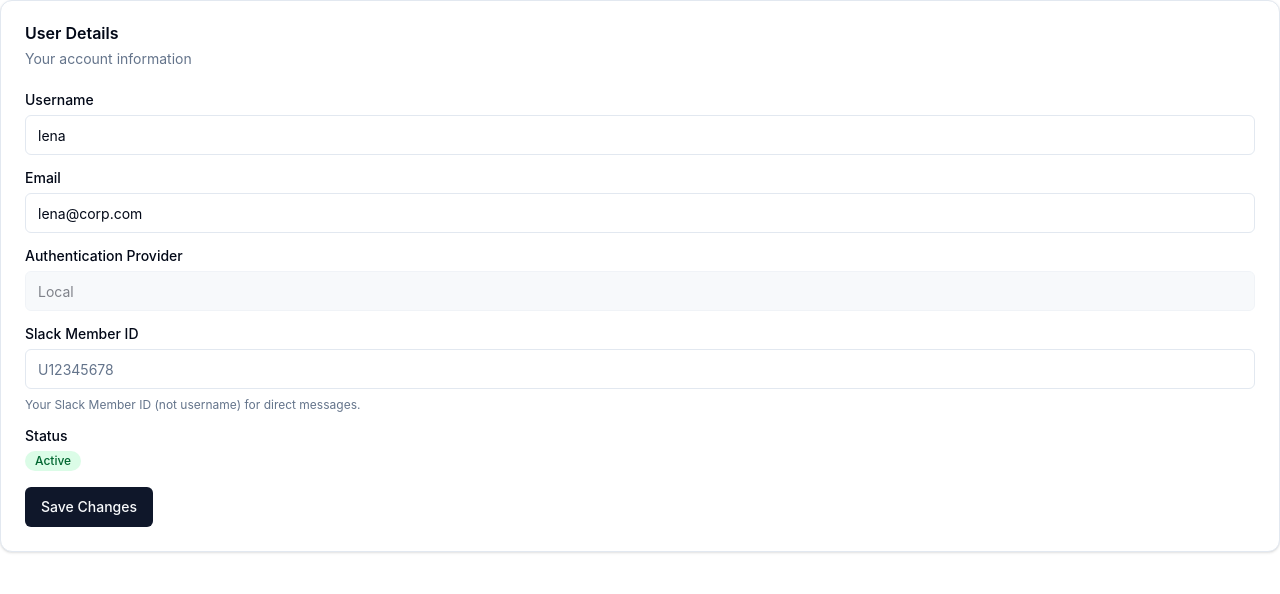
Test: UserDetailsCard › says under the field that the blank address  needs an email address and sends nothing
This screenshot has width=1280, height=594.
Clear the field labelled "Email" at (640, 213), box [25, 193, 1255, 233]
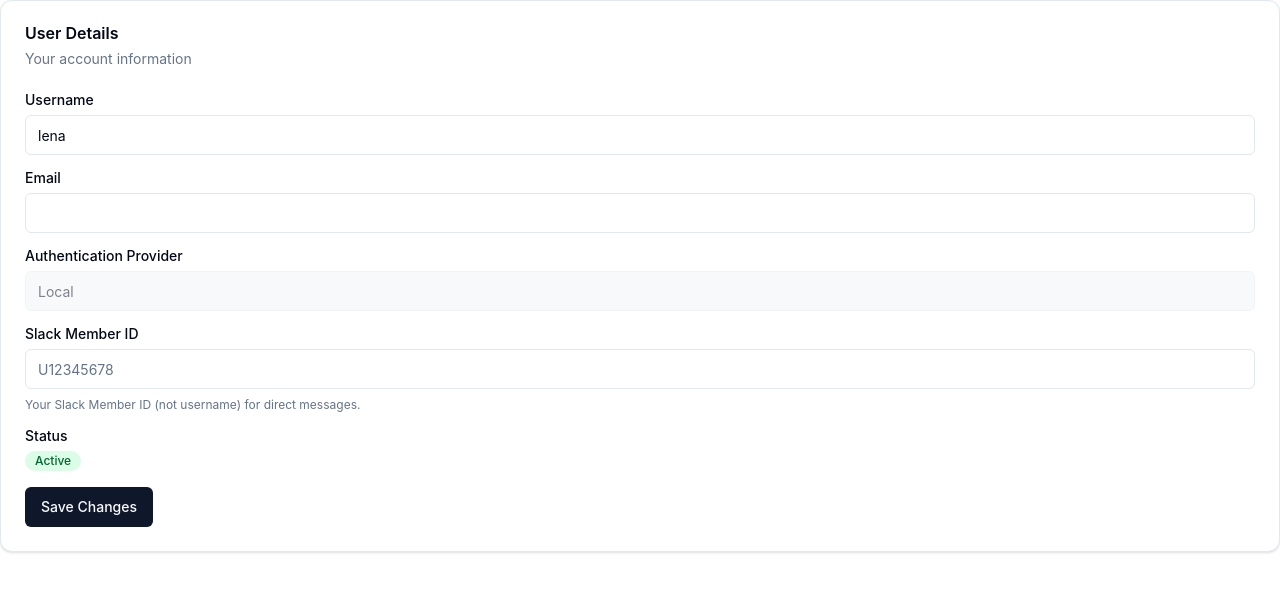
Type "U123" into the field labelled "Slack Member ID" at (640, 369), box [25, 349, 1255, 389]
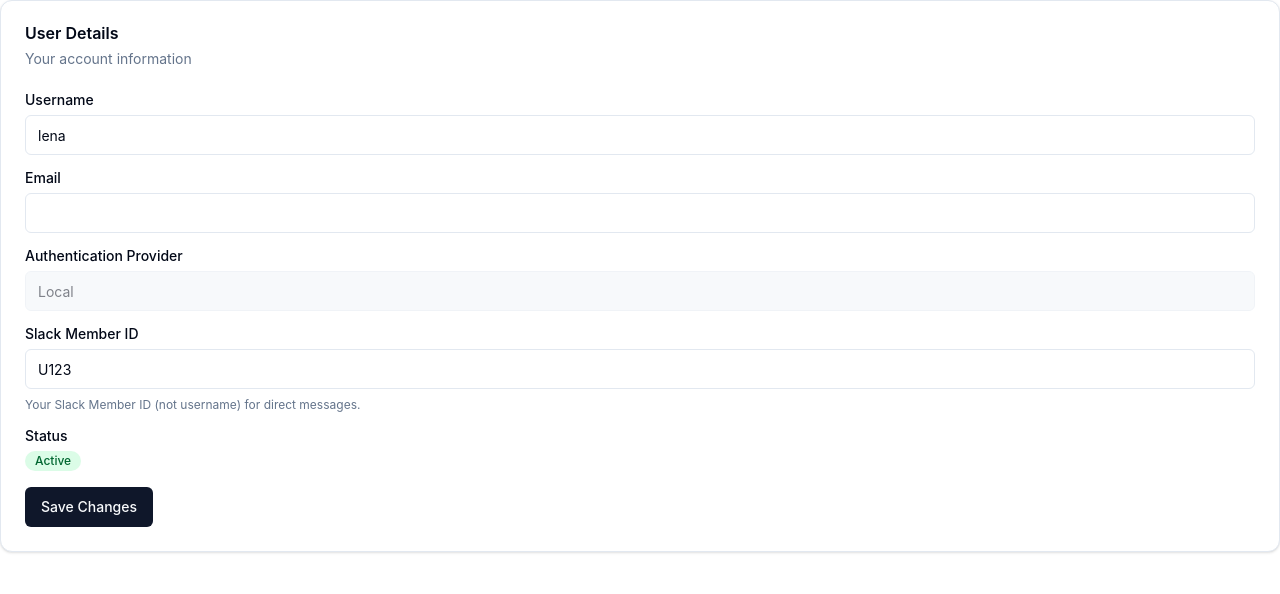
Click the button "Save Changes" at (89, 507), box [25, 487, 153, 527]
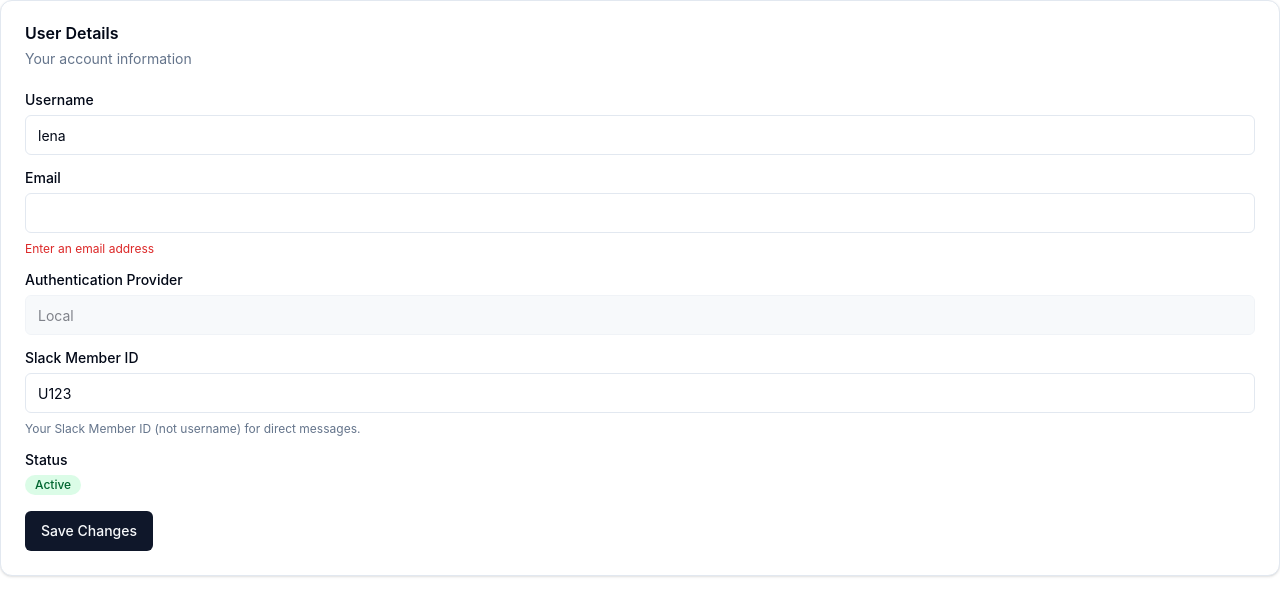
Expected: the message reads "Enter an email address", [25, 241, 154, 256]
Type "lena.new@corp.com" into the field labelled "Email" at (640, 213), box [25, 193, 1255, 233]
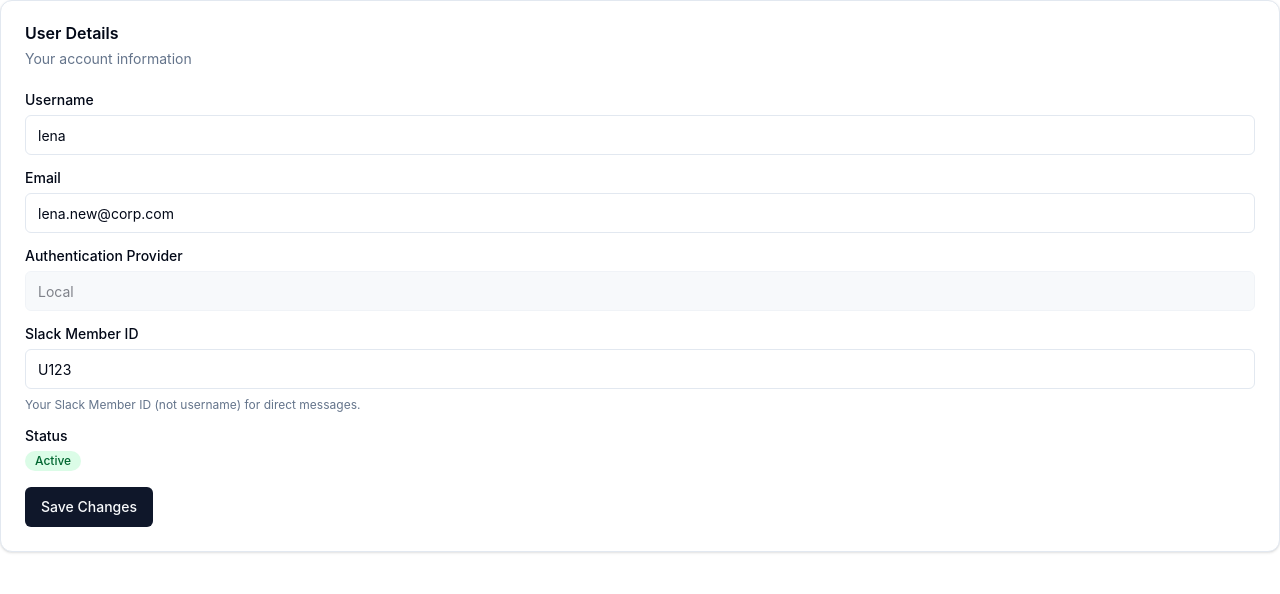
Expected: the message "Enter an email address" is gone
